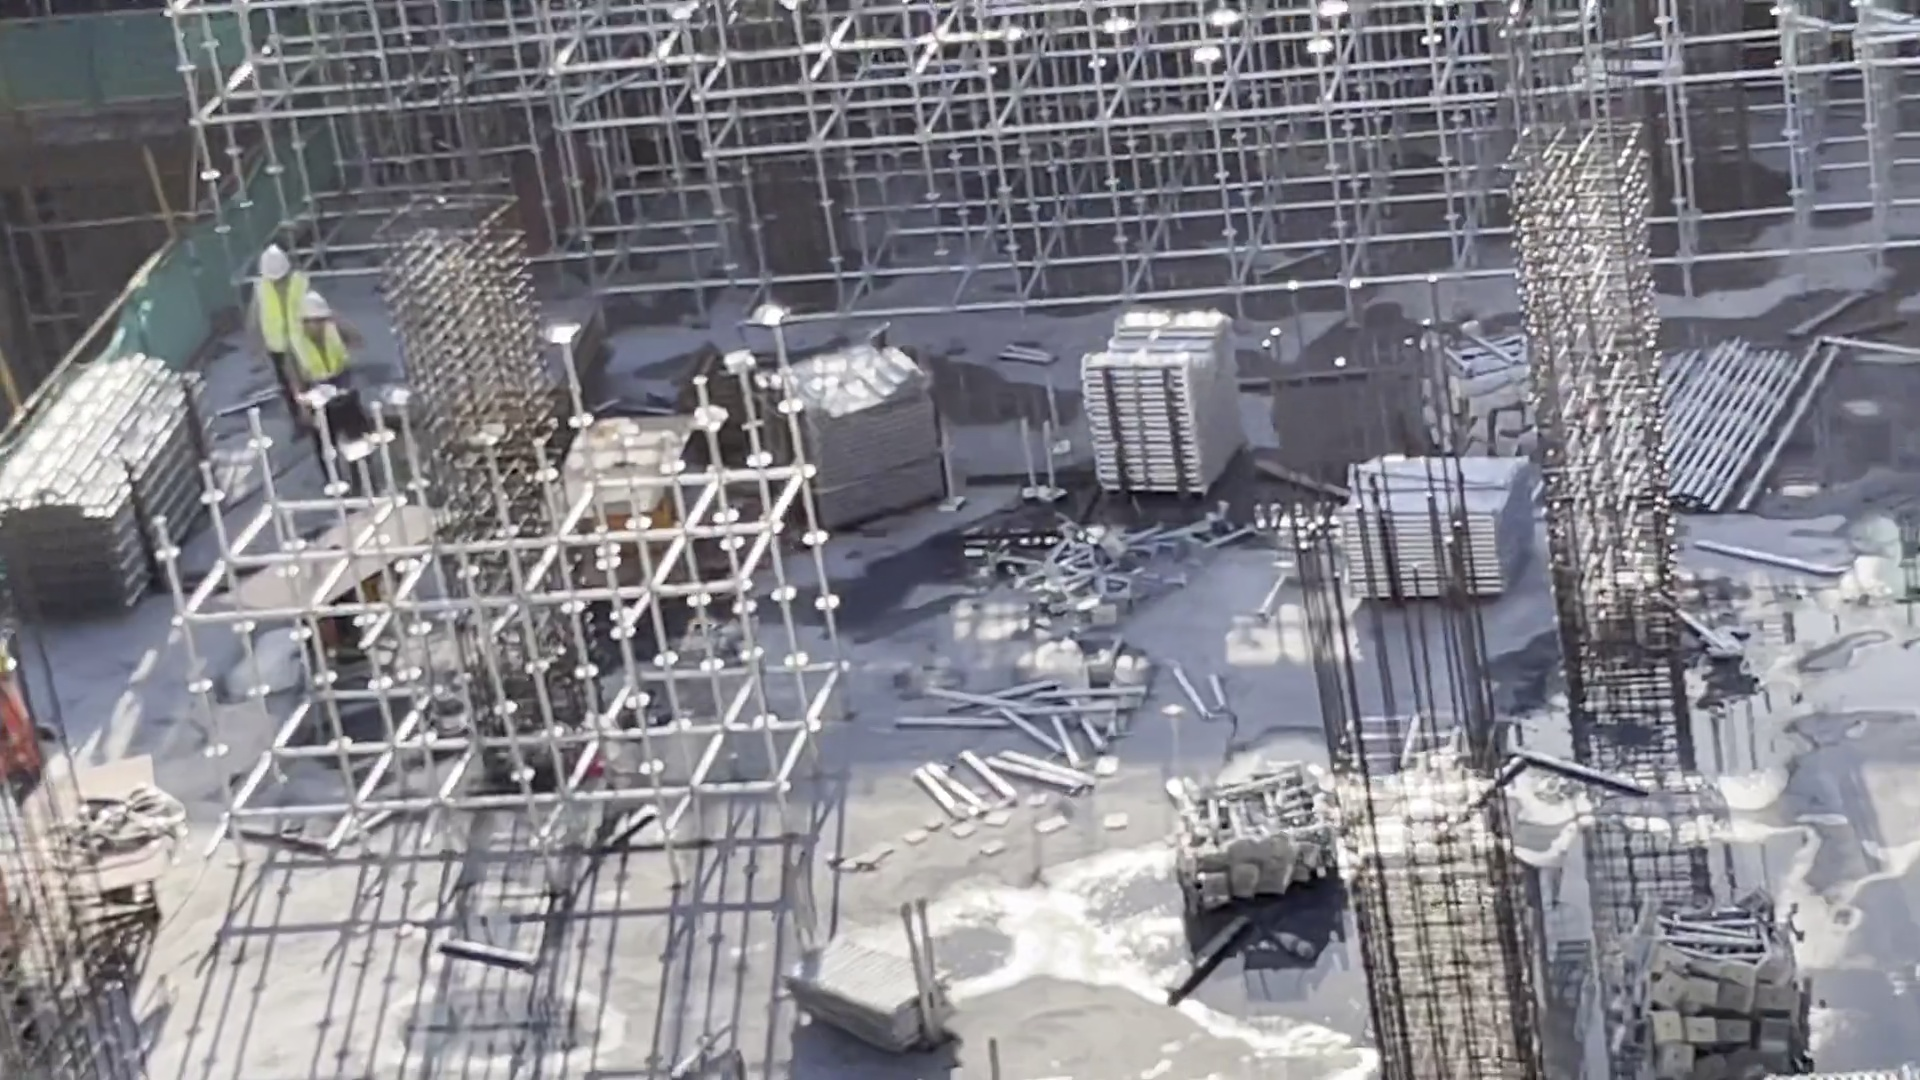helmet: (288, 291, 332, 325), (259, 235, 286, 282)
person: (241, 238, 306, 399), (281, 283, 345, 432)
scaffold: (6, 347, 222, 615), (1631, 321, 1841, 520), (759, 346, 956, 531), (1076, 300, 1248, 506), (1335, 446, 1537, 605)
vest: (248, 280, 311, 353), (287, 335, 343, 402)
